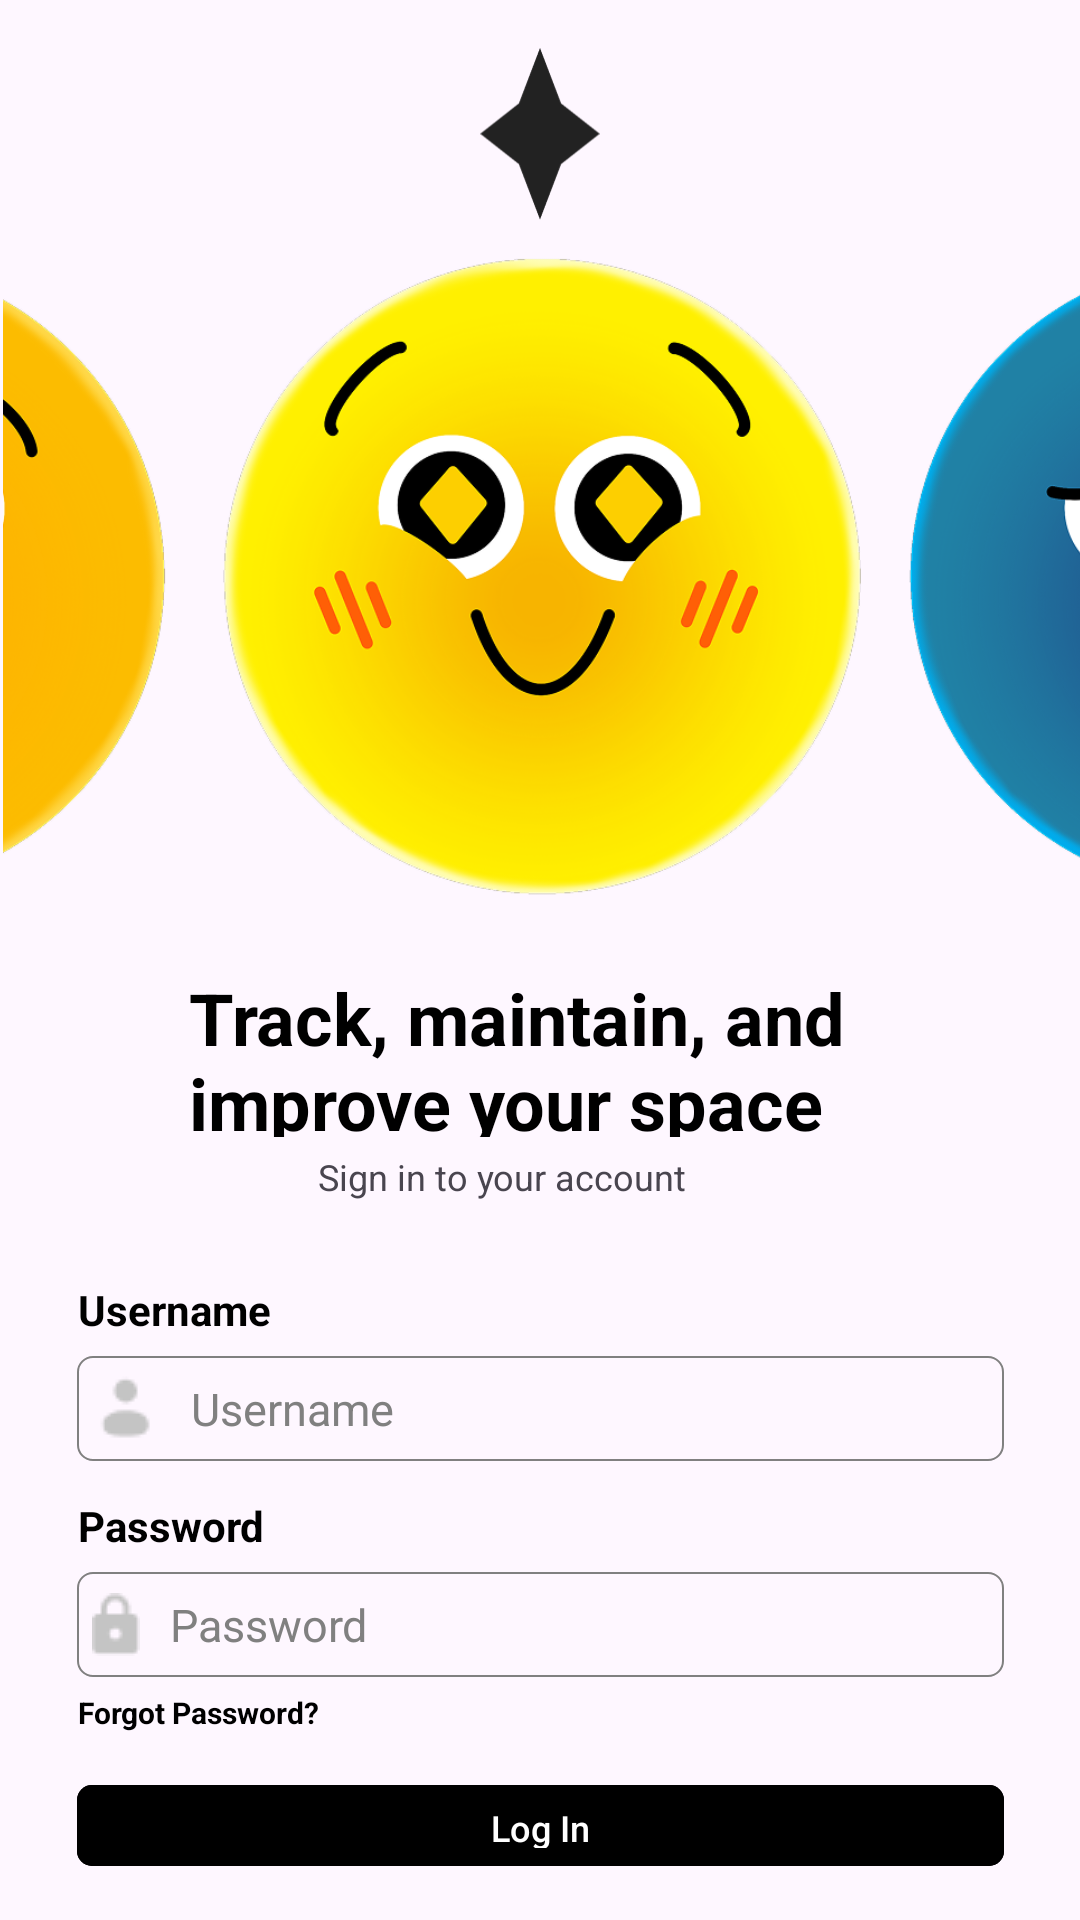

Where to tap for icons on this 1080px×1920px app screen, as point (x, y):
star: point (540, 133)
